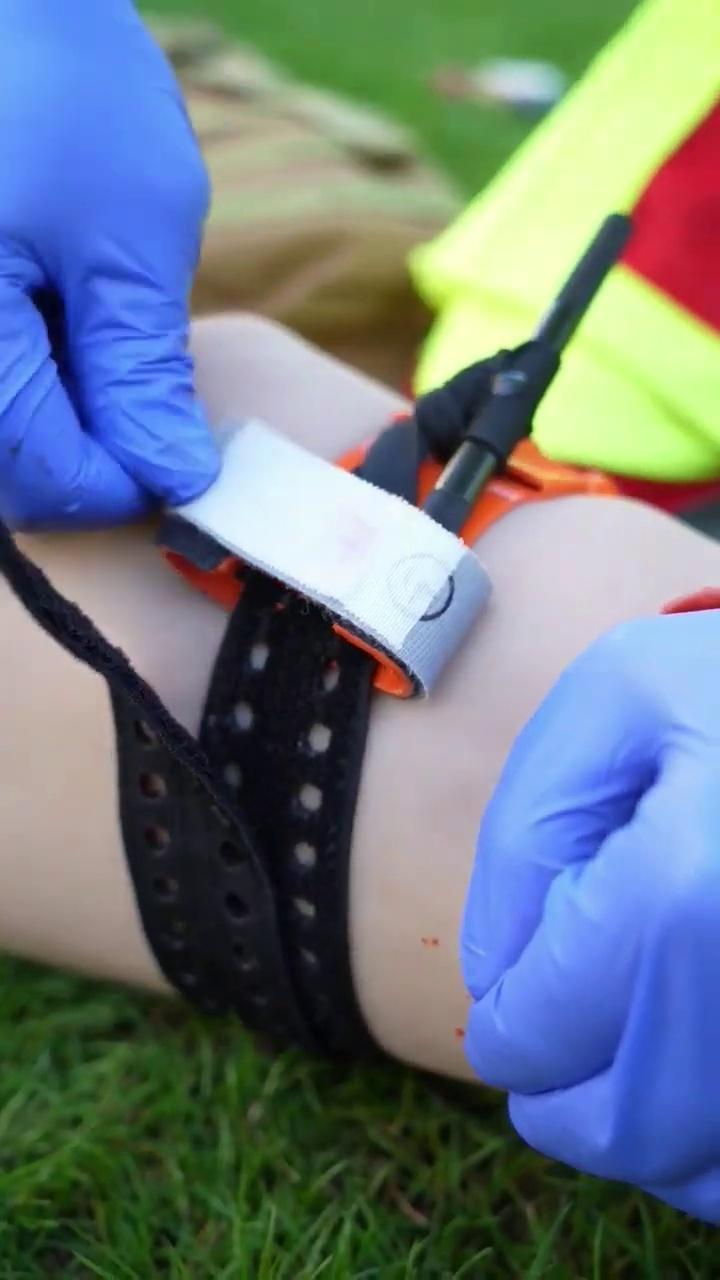Fire: (662, 587, 720, 615)
